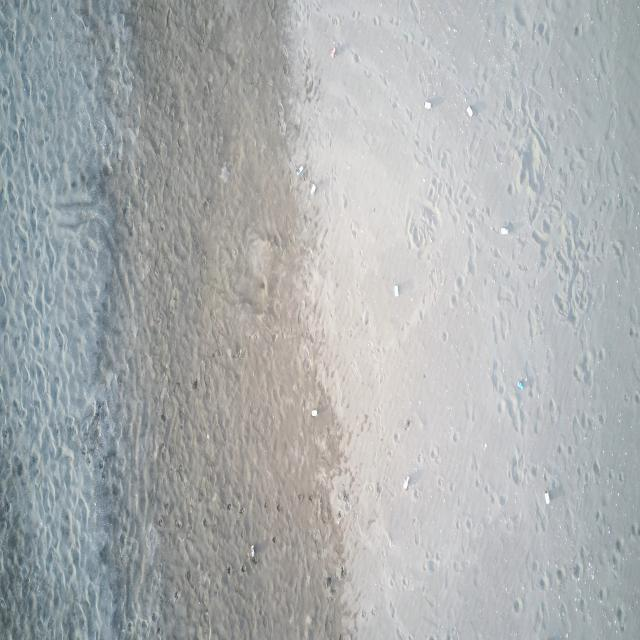tin-and-aluminum-cans: (402, 474, 410, 492), (296, 165, 304, 176), (466, 106, 473, 118), (310, 184, 317, 196), (544, 491, 550, 505), (423, 101, 432, 110), (310, 408, 318, 417), (500, 227, 509, 235), (394, 284, 399, 298), (518, 380, 524, 391), (251, 544, 255, 560), (331, 47, 336, 58)
